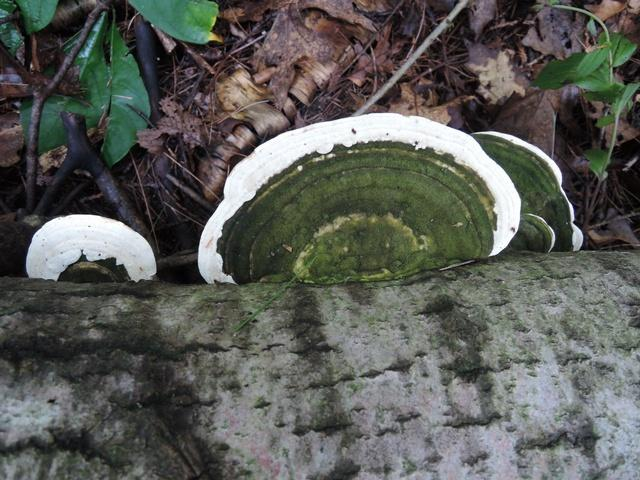poisonous_mushroom: (195, 111, 583, 287), (24, 212, 157, 283)
